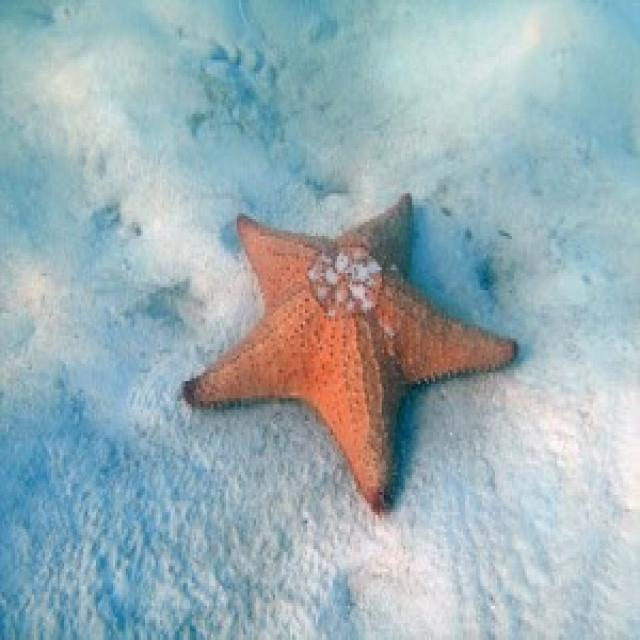Starfish: (178, 179, 527, 521)
